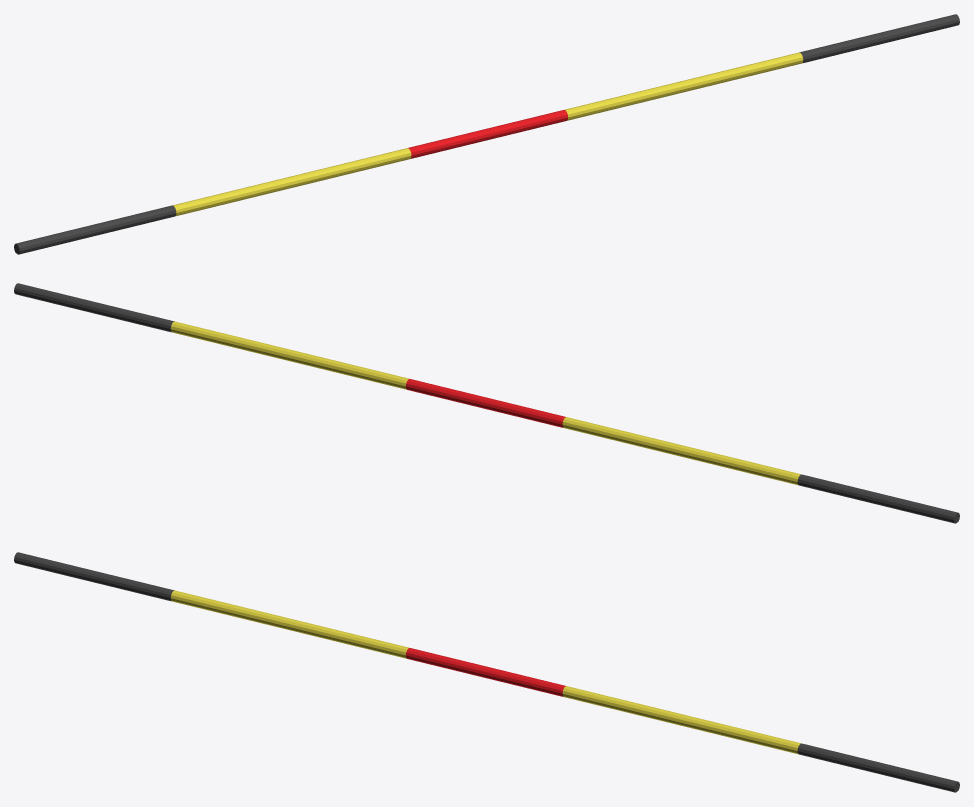
The model's file is High Jump Pole.fbx.
The picture shows the model from 3 angles, top to bottom: view 1: azimuth 30°, elevation 25°; view 2: azimuth 150°, elevation 25°; view 3: azimuth 330°, elevation 25°; orthographic projection.
Visible parts, largest first — view 1: High Jump Pole; view 2: High Jump Pole; view 3: High Jump Pole.
Boxes of the visible parts, x1,y1,x2,y2 form: High Jump Pole: (14, 14, 959, 254); High Jump Pole: (14, 283, 959, 523); High Jump Pole: (14, 552, 959, 792).
Bounding box in the file's own units: 1900 × 18.67 × 20.
